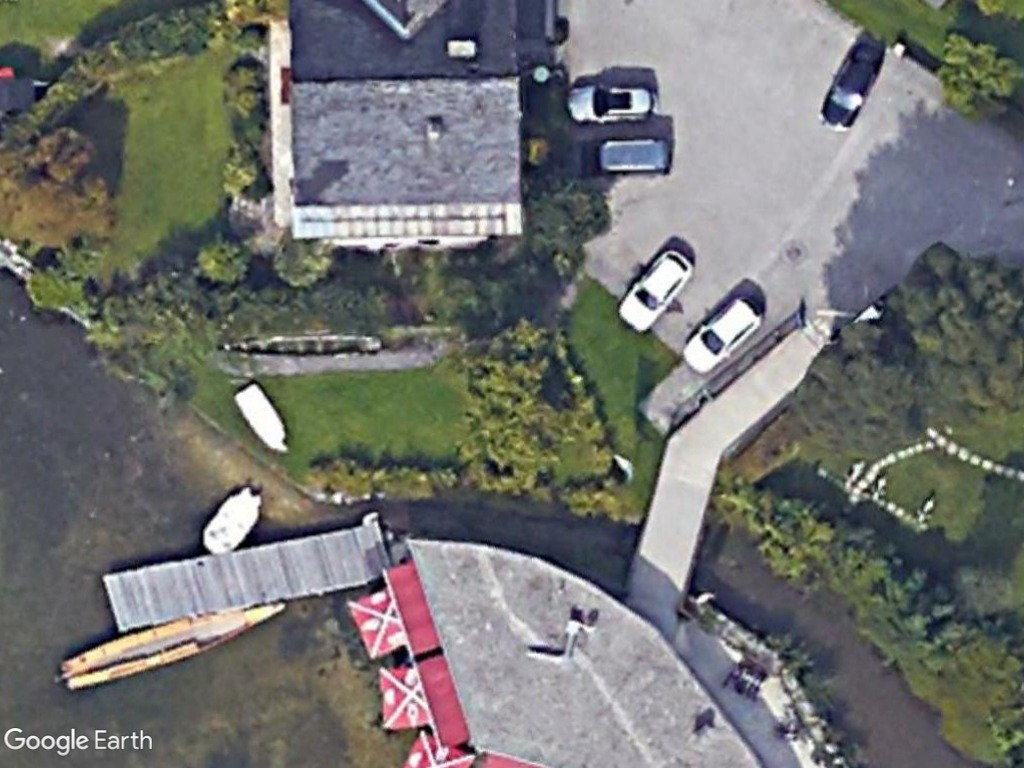car: (673, 289, 768, 384), (612, 242, 695, 337), (815, 33, 889, 135), (562, 128, 680, 186), (558, 78, 666, 128)
